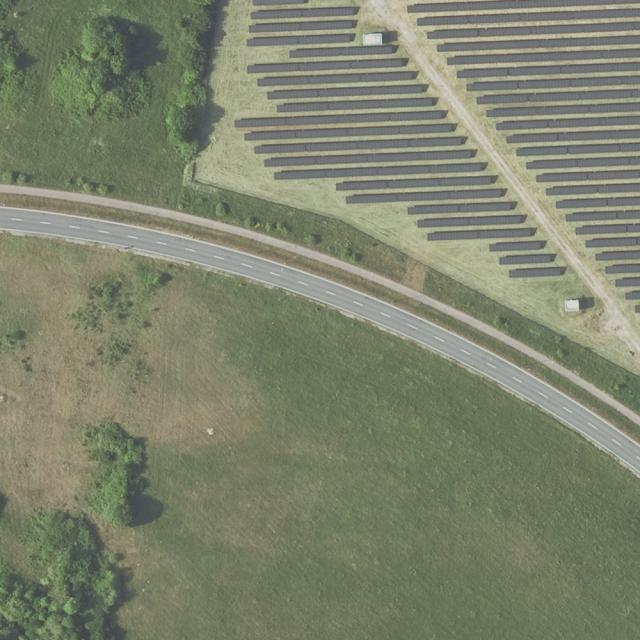PV: (235, 0, 561, 278), (406, 0, 640, 313)
